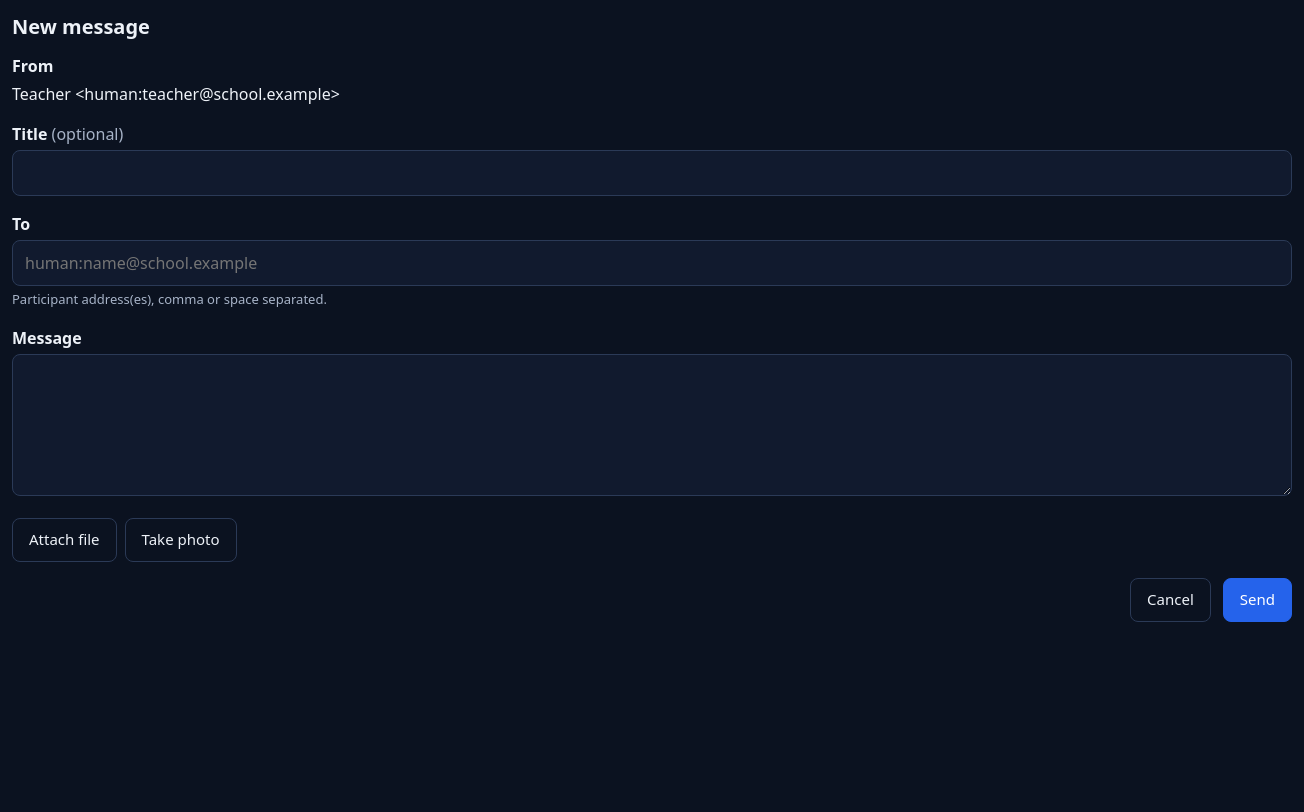
Scenario: ComposeMessage › blocks new conversations while offline with a calm explanation
The image size is (1304, 812).
In the field labelled "To": (652, 263) [12,240,1292,286], type "human:a@school.example"
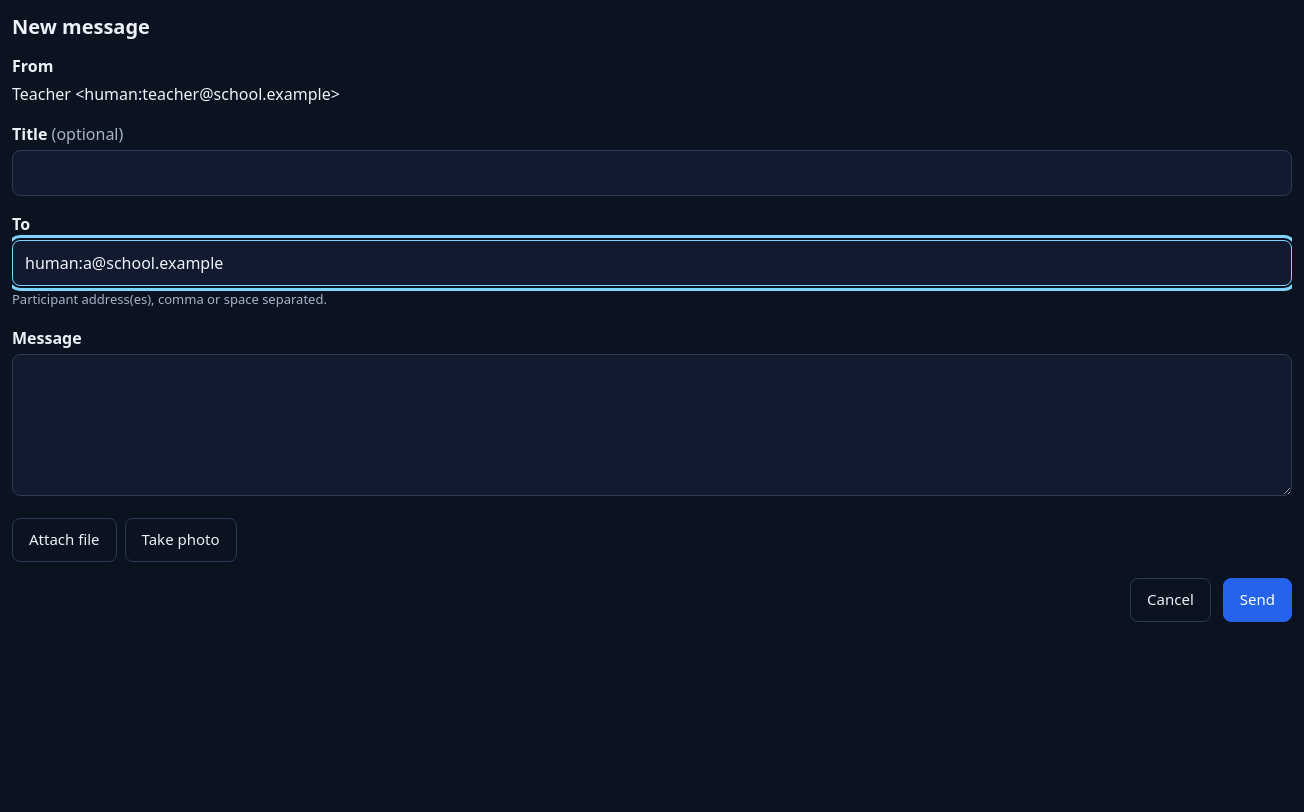
In the text box labelled "Message": (652, 424) [12,354,1292,496], type "hi"
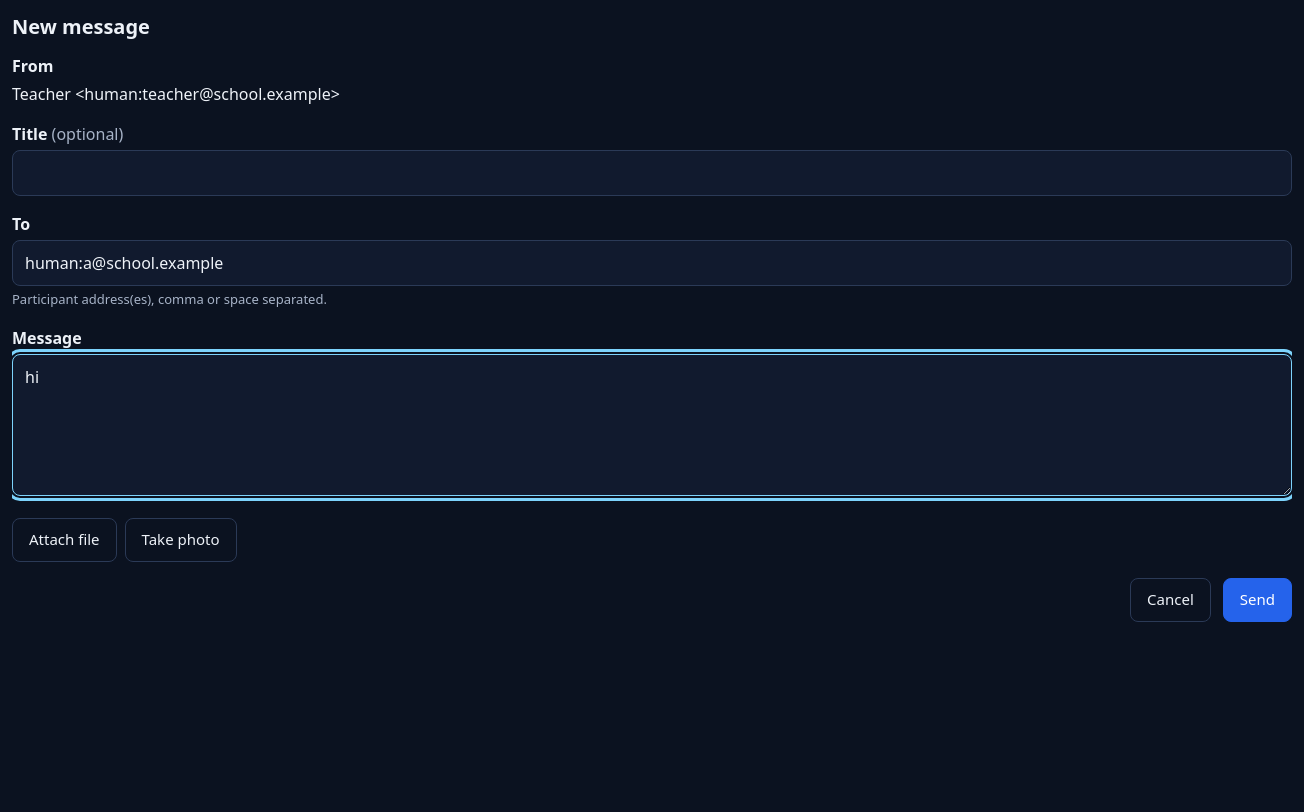
Click the button "Send": click(1257, 600) [1223,578,1292,622]
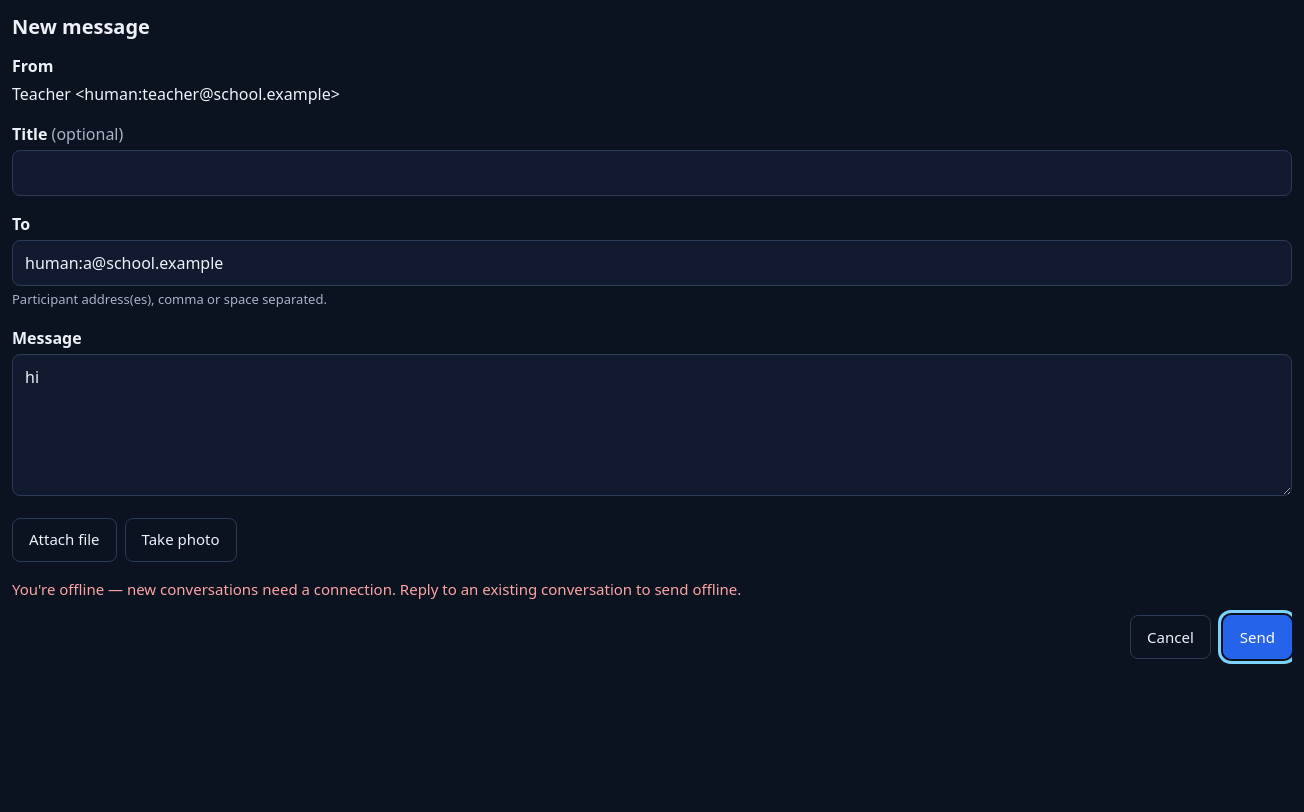
Expected: the text "offline" is shown, [12,578,741,598]
